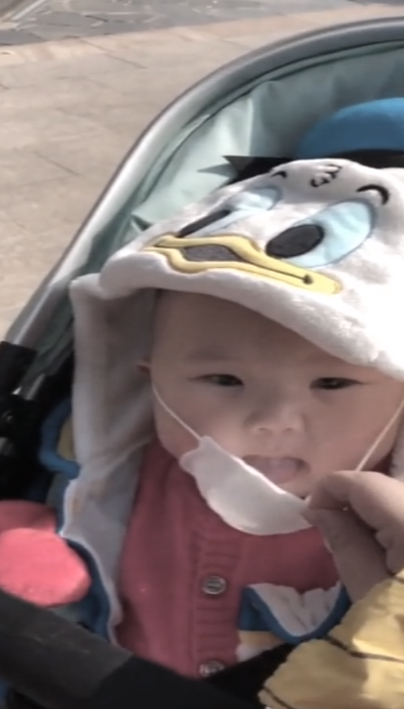mask_weared_incorrect: (126, 272, 403, 539)
